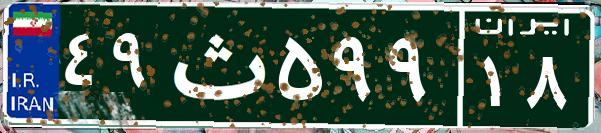1: (475, 38, 525, 113)
4: (57, 26, 110, 107)
5: (273, 28, 330, 110)
8: (525, 38, 570, 115)
9: (385, 28, 445, 110), (330, 28, 385, 110), (110, 28, 158, 105)
ث: (158, 15, 273, 115)
